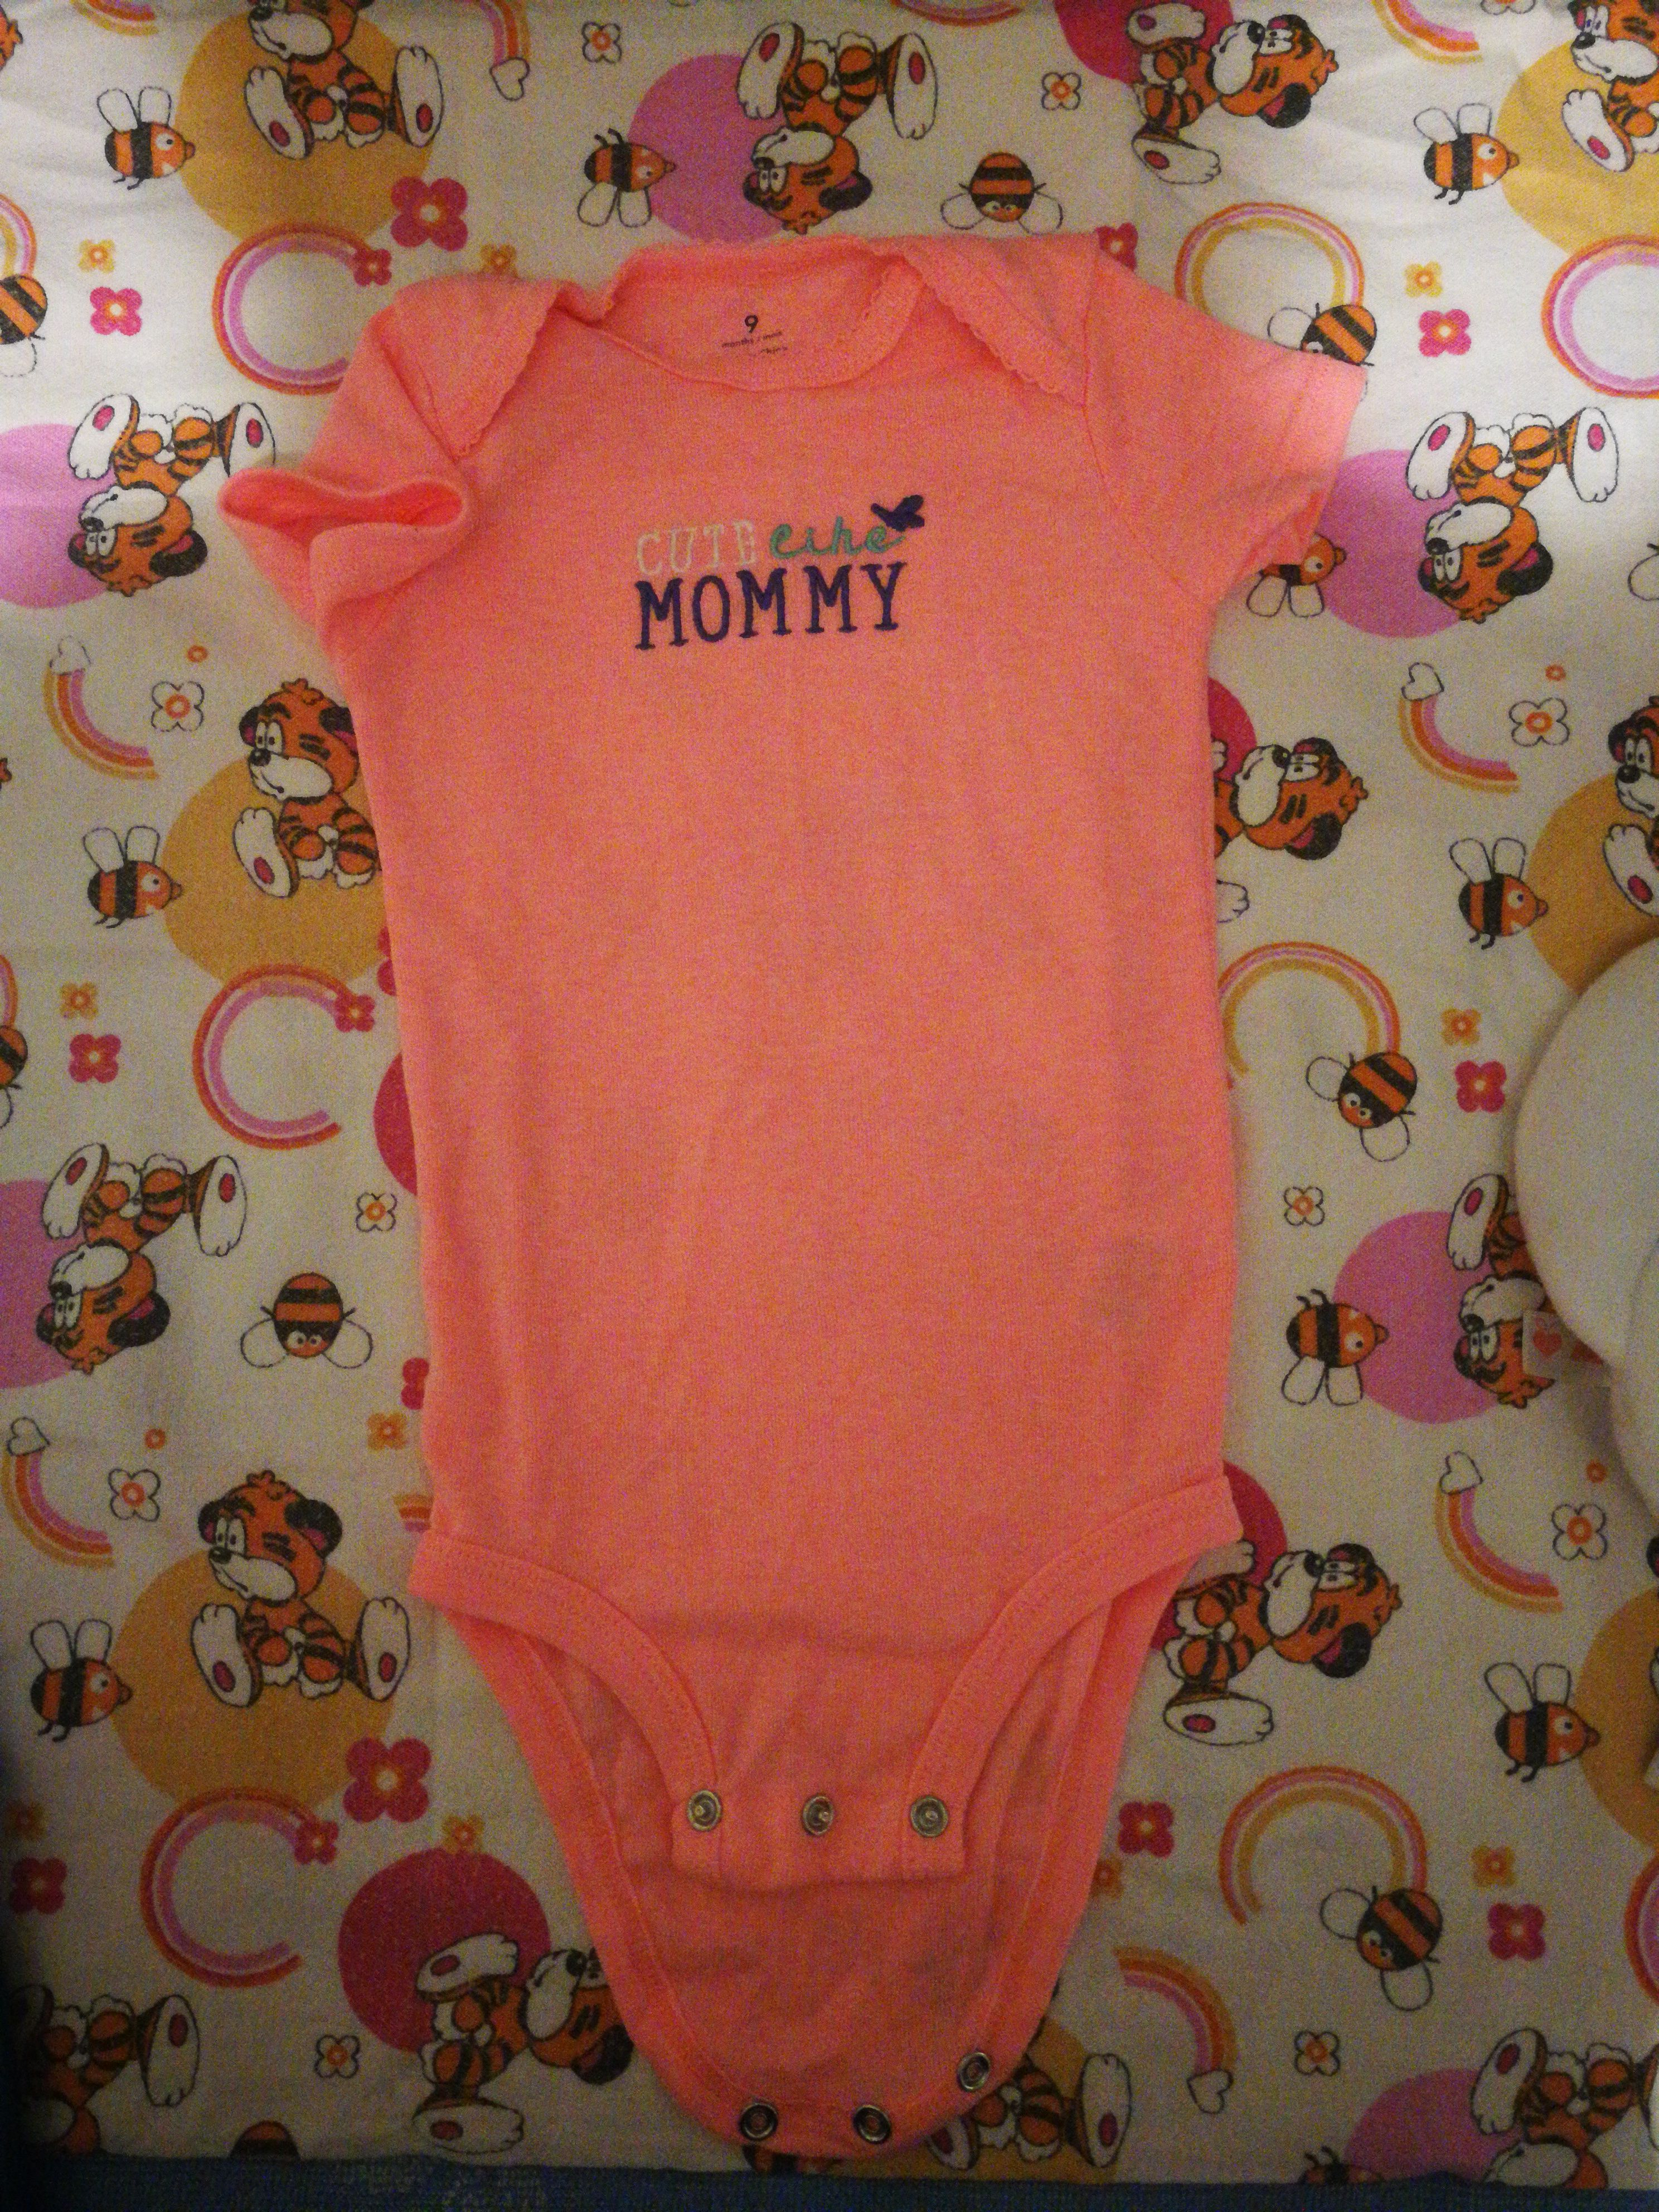clothes: (214, 239, 1364, 2182)
